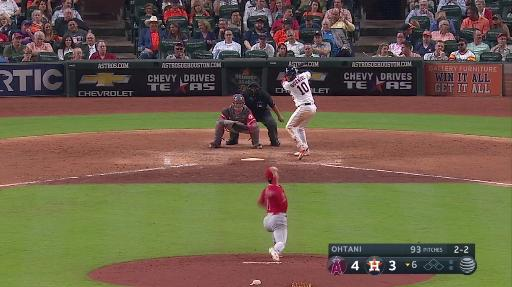pitcher: (255, 168, 297, 262)
